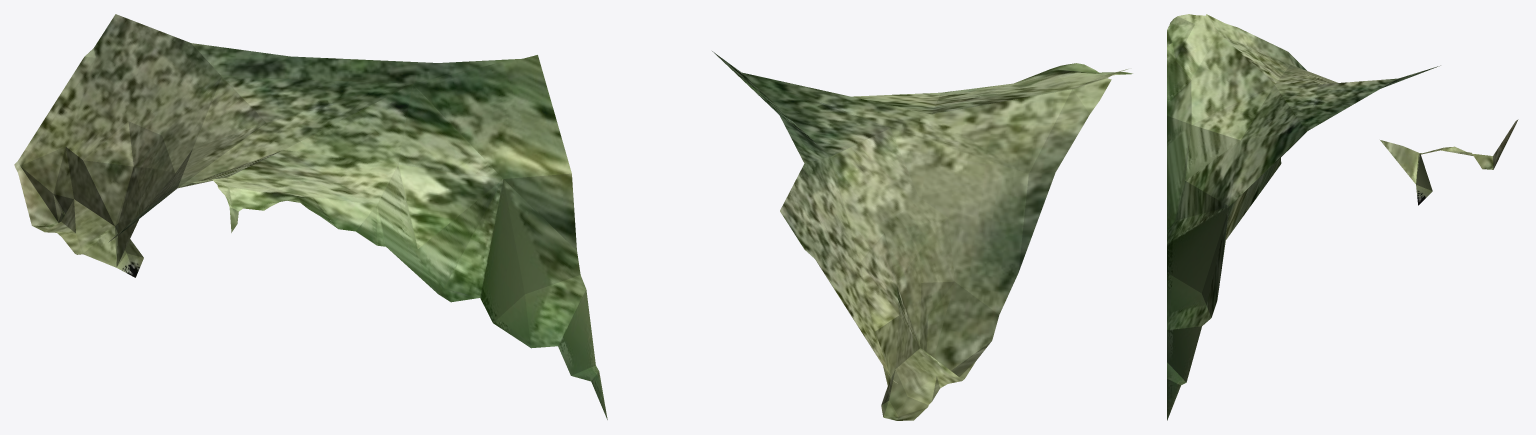
The picture shows the model from 3 angles, left to right: view 1: azimuth 30°, elevation 25°; view 2: azimuth 150°, elevation 25°; view 3: azimuth 270°, elevation 25°; orthographic projection. The views are drawn at different scales.
Size of the model in its own units: 5.9 by 4.72 by 5.9.
3 materials, 3 textured.
